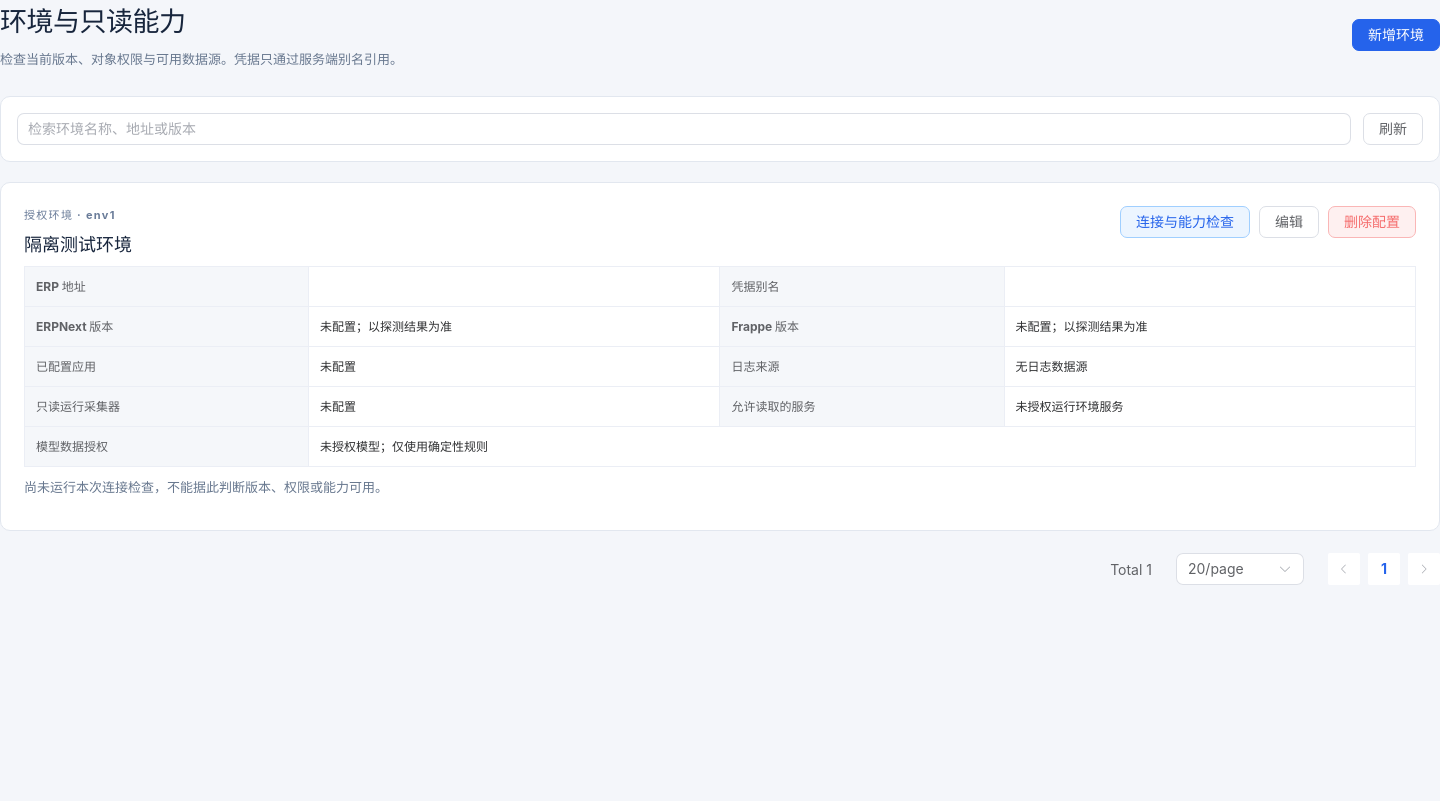
Test: three list workspaces with mocked HTTP › shows returned capability failures without relabeling them as success
Click the button "连接与能力检查".
click(1185, 222)  # box x1=1120 y1=206 x2=1250 y2=238
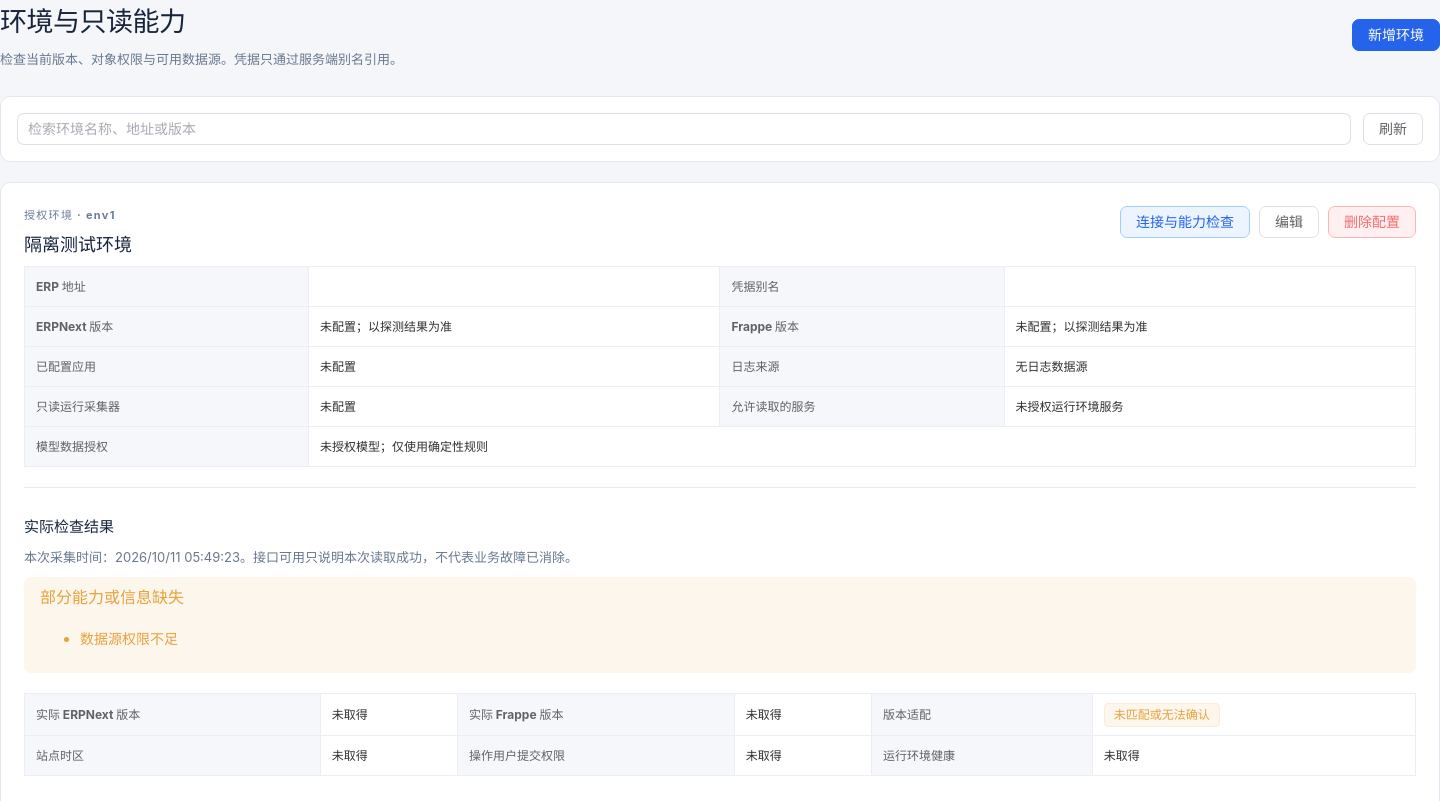
Now the text "数据源权限不足" is shown, box x1=80 y1=627 x2=184 y2=651
